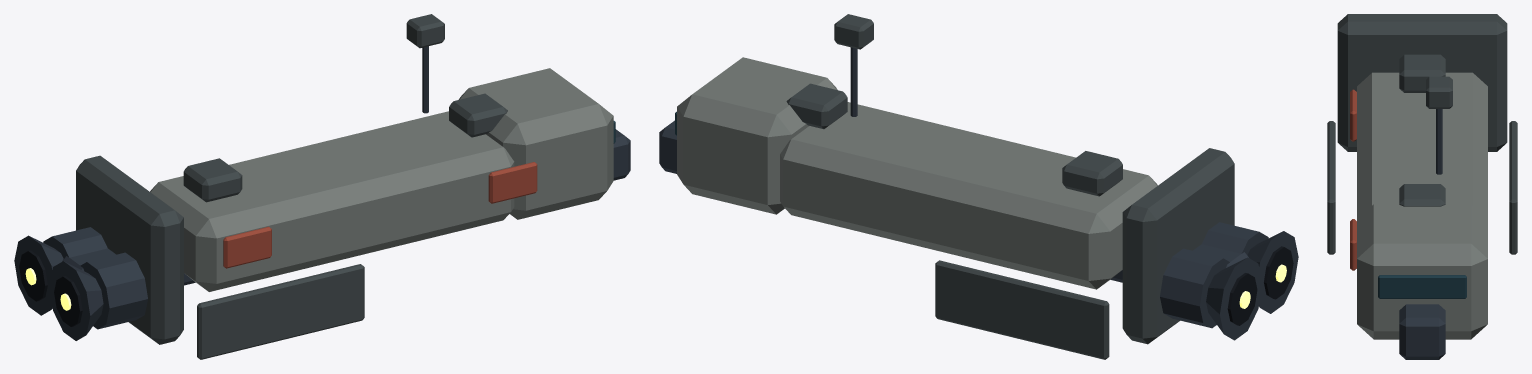
Rendered from last-warning.glb.
3 renders of one model, left to right at view 1: azimuth 30°, elevation 25°; view 2: azimuth 150°, elevation 25°; view 3: azimuth 270°, elevation 25°, orthographic. The views are drawn at different scales.
Visible parts, largest first — view 1: armored mission hull, forward command, reactor shield, shuttered radiator, engine jacket, engine bell, dorsal mount, dorsal mount.001, weapon access.001, weapon access, engine bell.001, structural spine (+4 smaller); view 2: armored mission hull, forward command, reactor shield, shuttered radiator.001, engine jacket.001, engine bell.001, dorsal mount, dorsal mount.001, engine bell, structural spine, engine jacket, sensor head (+3 smaller); view 3: armored mission hull, forward command, reactor shield, structural spine, bridge glazing, dorsal mount, shuttered radiator, shuttered radiator.001, dorsal mount.001, sensor head, radio mast, weapon access (+1 smaller).
Part boxes in pixels (x1,y1,x2,y2): armored mission hull: (150, 111, 514, 291); forward command: (458, 68, 613, 219); reactor shield: (76, 155, 183, 344); shuttered radiator: (197, 264, 364, 359); engine jacket: (80, 252, 147, 329); engine bell: (49, 261, 103, 340); dorsal mount: (183, 158, 242, 202); dorsal mount.001: (449, 93, 507, 137); weapon access.001: (488, 162, 537, 203); weapon access: (223, 226, 271, 268); engine bell.001: (14, 235, 63, 315); structural spine: (62, 129, 630, 285); armored mission hull: (780, 102, 1157, 289); forward command: (677, 57, 837, 214); reactor shield: (1122, 148, 1234, 344); shuttered radiator.001: (935, 260, 1109, 359); engine jacket.001: (1160, 248, 1229, 328); engine bell.001: (1206, 257, 1259, 340); dorsal mount: (1062, 151, 1122, 196); dorsal mount.001: (786, 83, 847, 129); engine bell: (1247, 231, 1298, 313); structural spine: (659, 120, 1248, 282); engine jacket: (1202, 222, 1268, 254); sensor head: (834, 14, 873, 49); armored mission hull: (1357, 72, 1487, 218); forward command: (1357, 204, 1487, 339); reactor shield: (1337, 14, 1507, 151); structural spine: (1399, 304, 1445, 359); bridge glazing: (1378, 275, 1466, 298); dorsal mount: (1399, 54, 1445, 92); shuttered radiator: (1327, 121, 1335, 254); shuttered radiator.001: (1509, 121, 1517, 254); dorsal mount.001: (1399, 184, 1445, 206); sensor head: (1426, 76, 1452, 108); radio mast: (1436, 109, 1442, 174); weapon access: (1350, 89, 1356, 141).
Bounding box in the file's own units: 7.82 × 3 × 2.25.
